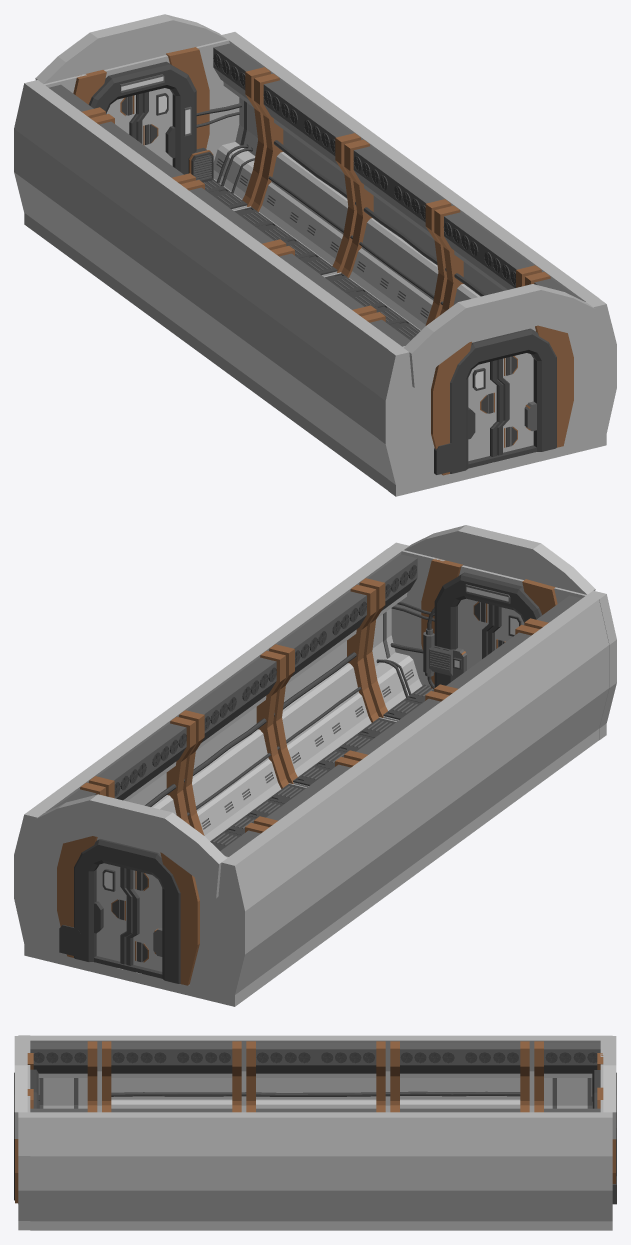
Rendered from Couloir_I.fbx.
3 renders of one model, top to bottom at view 1: azimuth 30°, elevation 25°; view 2: azimuth 150°, elevation 25°; view 3: azimuth 270°, elevation 25°, orthographic. The views are drawn at different scales.
Parts seen in each view (by area): view 1: Cube, Cloison.017, SurMur.002, Cube.024, Cube.006, Cube.005, Cube.007; view 2: Cube, Cloison.017, SurMur.002, Cube.007, Cube.005, Cube.024, Cube.006; view 3: SurMur.002, Cloison.017, Cube.
Boxes of the visible parts, x1,y1,x2,y2 form: Cube: (14, 14, 616, 496); Cloison.017: (21, 84, 410, 478); SurMur.002: (213, 37, 599, 330); Cube.024: (497, 353, 533, 455); Cube.006: (468, 360, 503, 460); Cube.005: (136, 88, 172, 165); Cube.007: (106, 93, 142, 139); Cube: (14, 525, 616, 1006); Cloison.017: (220, 595, 609, 989); SurMur.002: (32, 548, 421, 840); Cube.007: (126, 868, 162, 971); Cube.005: (96, 863, 132, 964); Cube.024: (458, 598, 494, 669); Cube.006: (488, 605, 524, 654); SurMur.002: (30, 1105, 600, 1221); Cloison.017: (30, 1035, 600, 1112); Cube: (14, 1035, 616, 1230).
Size of the model in its own units: 2669 by 1913 by 7532.
